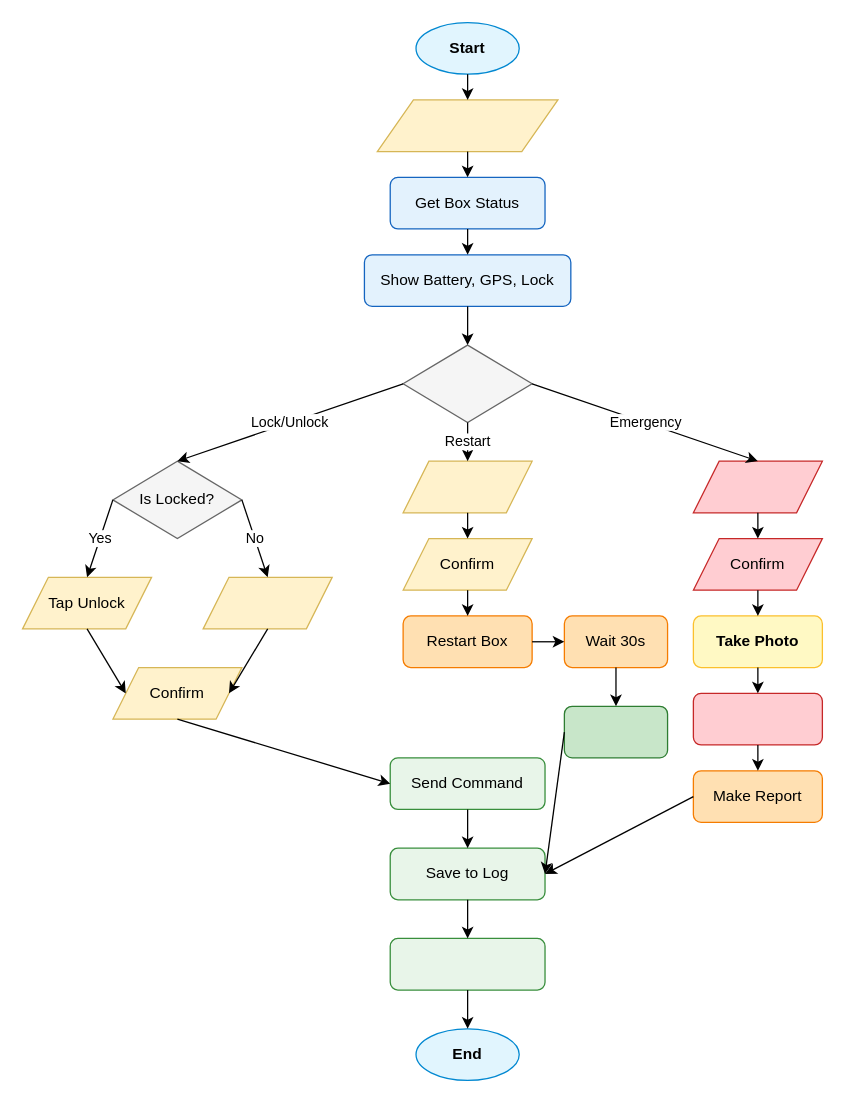
The diagram is 845 pixels wide and 1103 high, and some of its shapes have lost their labels. Here are the shapes that lost their labels. From the top down, the centre of each, then its label:
At point (467, 125): "Open Box Controls".
At point (467, 383): "What to Do?".
At point (467, 486): "Tap Restart".
At point (757, 486): "Hold Button".
At point (267, 602): "Tap Lock".
At point (615, 731): "Box Online".
At point (757, 718): "Force Open".
At point (467, 963): "Update Screen".
